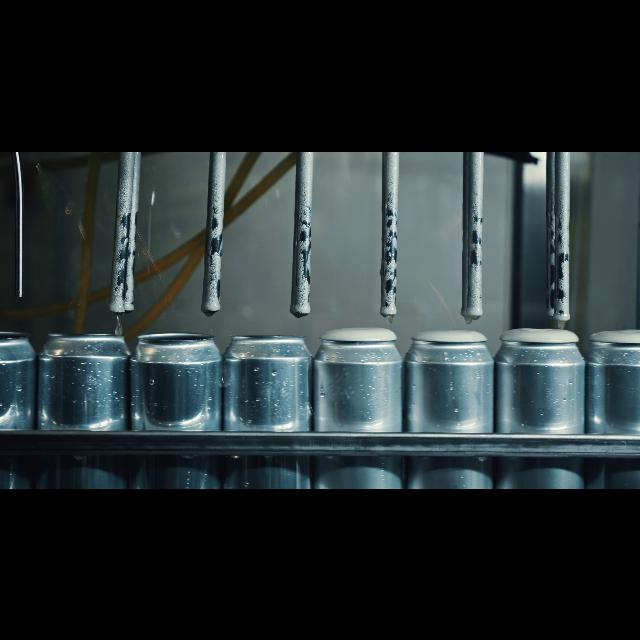empty: (133, 318, 223, 488), (40, 312, 121, 488), (230, 322, 308, 488), (1, 324, 34, 488)
full: (314, 318, 406, 488), (409, 324, 496, 488), (506, 324, 580, 488), (586, 326, 640, 488)
